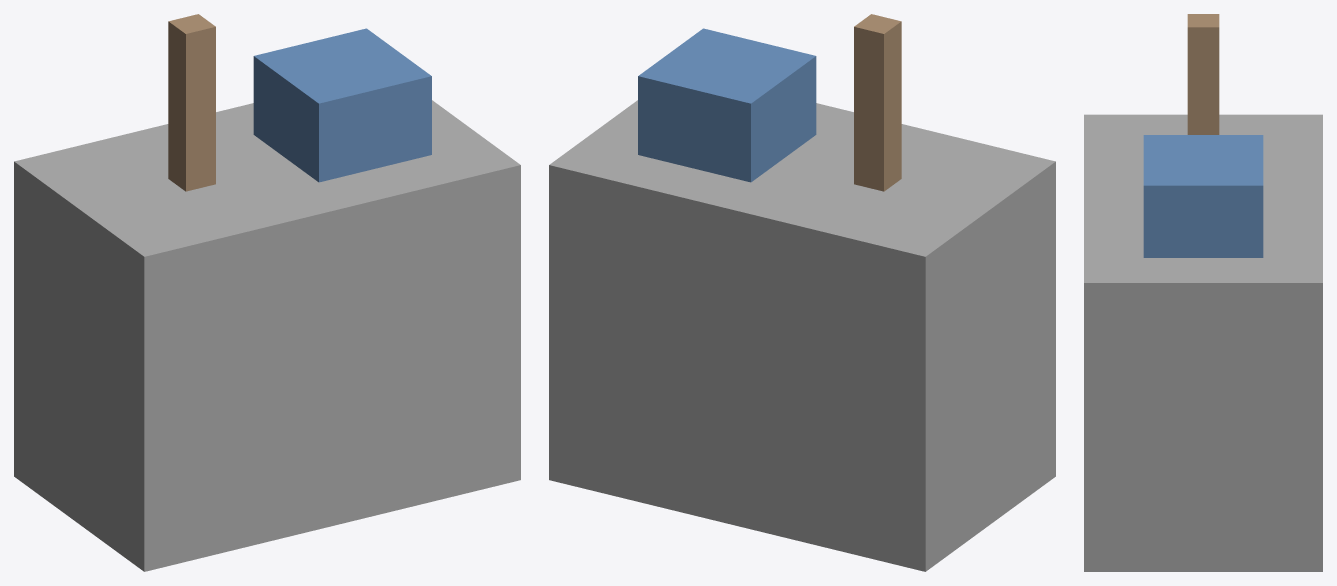
File: janitor_cart.glb
The picture shows the model from 3 angles, left to right: view 1: azimuth 30°, elevation 25°; view 2: azimuth 150°, elevation 25°; view 3: azimuth 270°, elevation 25°; orthographic projection. The views are drawn at different scales.
Parts seen in each view (by area): view 1: cart, bucket, mop; view 2: cart, bucket, mop; view 3: cart, bucket, mop.
Boxes of the visible parts, x1,y1,x2,y2 form: cart: [14, 100, 520, 571]; bucket: [253, 28, 431, 182]; mop: [168, 14, 215, 191]; cart: [549, 100, 1055, 571]; bucket: [638, 28, 816, 182]; mop: [854, 14, 901, 191]; cart: [1084, 114, 1322, 571]; bucket: [1143, 135, 1263, 257]; mop: [1187, 14, 1219, 134].
Size of the model in its own units: 1 by 1.2 by 0.5996.
